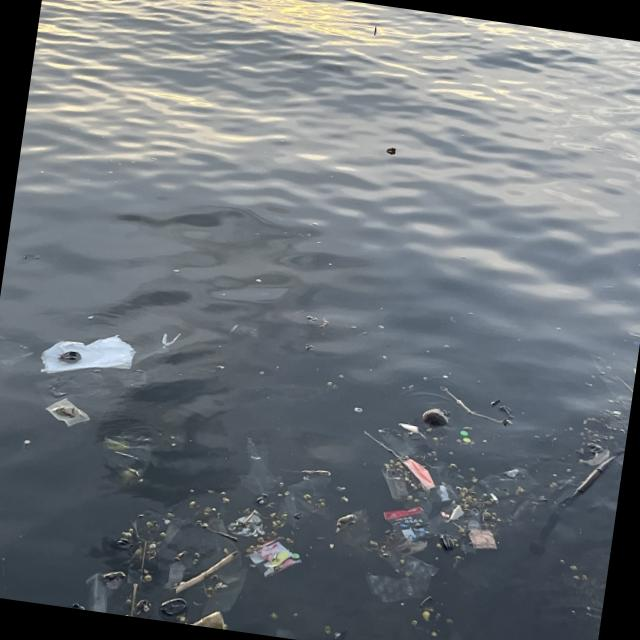foam: (400, 424, 421, 435)
plastic bag: (37, 334, 139, 373)
